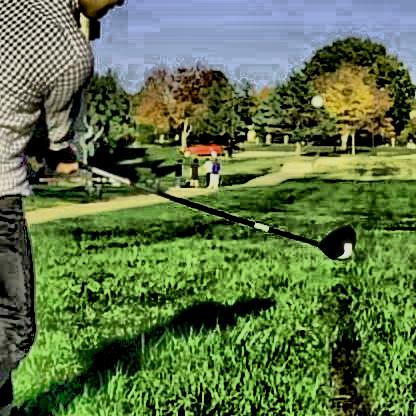golfball: (307, 92, 321, 106)
